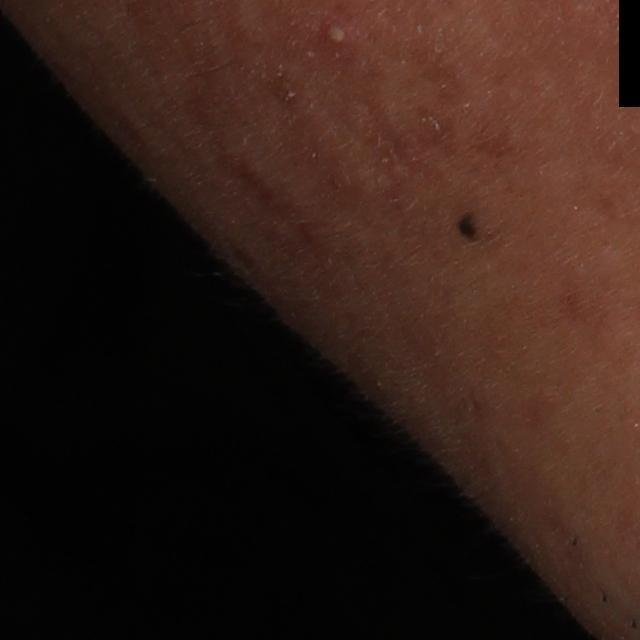nevus: (453, 210, 480, 240)
pustule: (319, 14, 356, 54)
